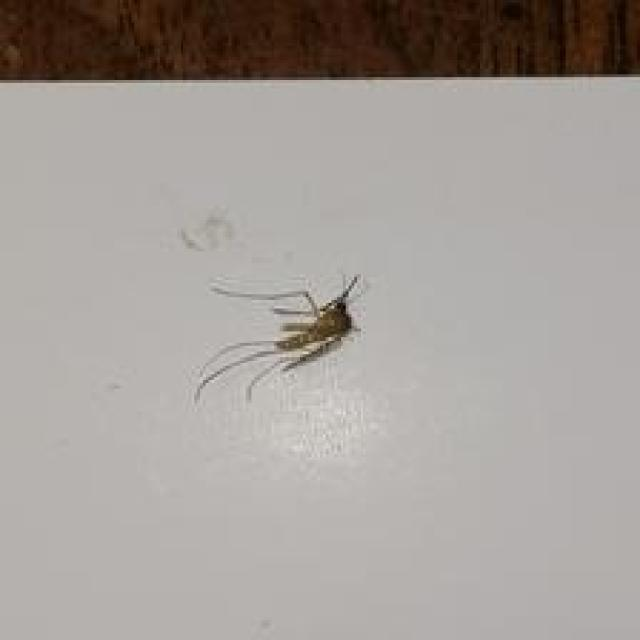Culex: (191, 271, 363, 406)
